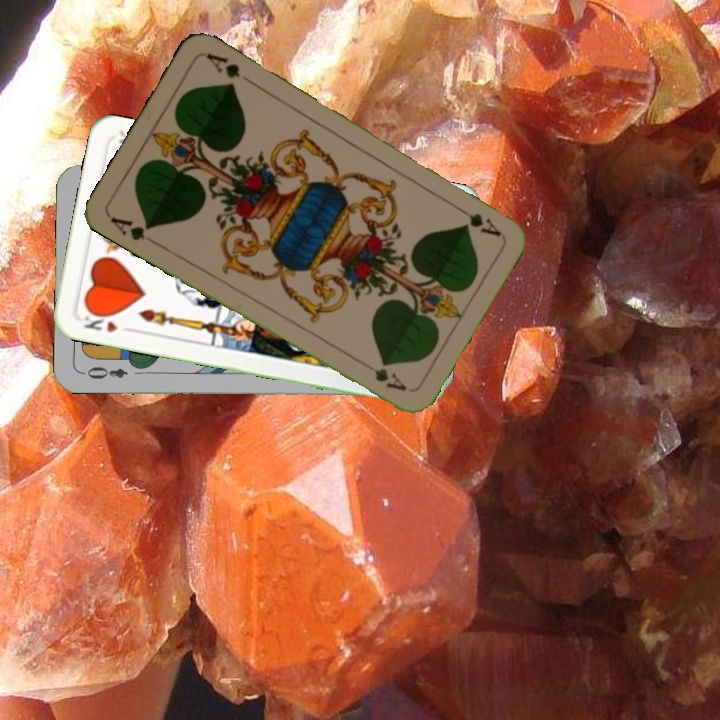EO: (78, 362, 130, 382)
GA: (450, 201, 504, 240), (106, 212, 160, 248)
HK: (80, 306, 136, 336)
